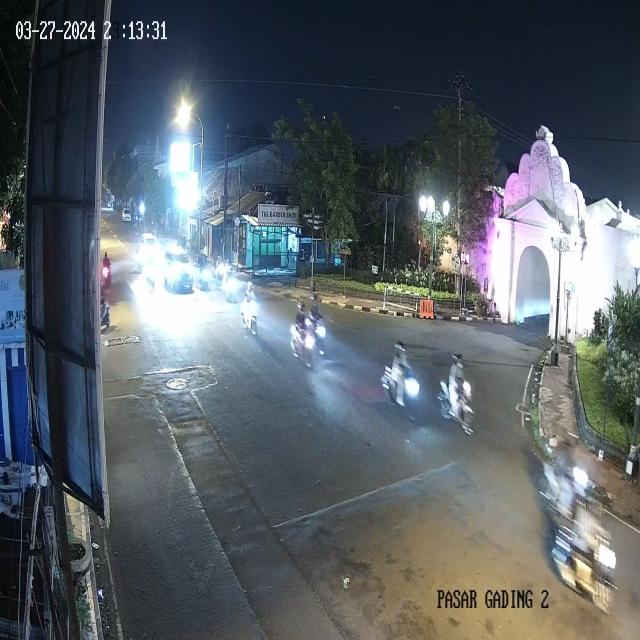car: (160, 250, 196, 293)
motorcycle: (549, 476, 618, 613), (542, 432, 590, 530), (384, 338, 420, 422), (440, 350, 473, 430), (303, 292, 328, 358), (289, 302, 312, 370), (239, 281, 258, 341)
